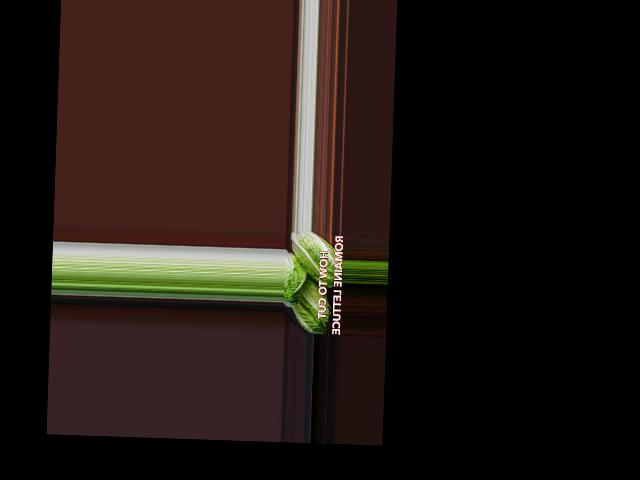lettuce: (287, 271, 336, 337)
